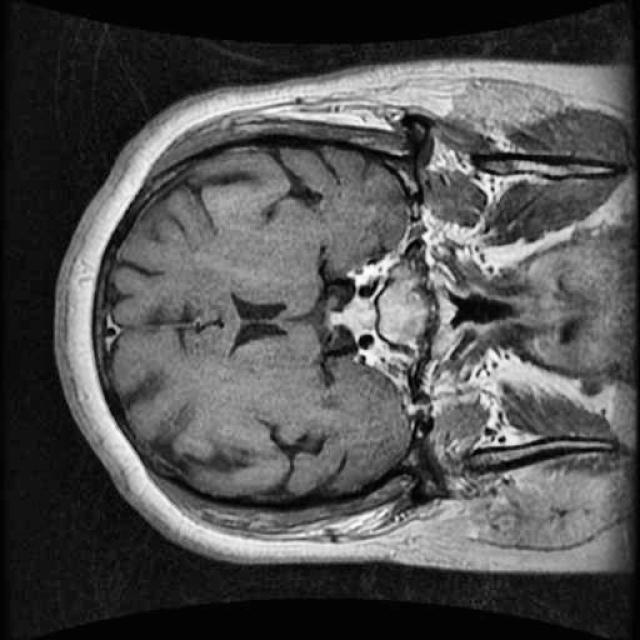Tumor: (321, 282, 391, 344)
